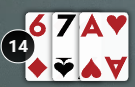6: (27, 12, 50, 39)
7: (53, 11, 77, 41)
a: (79, 11, 104, 41)
